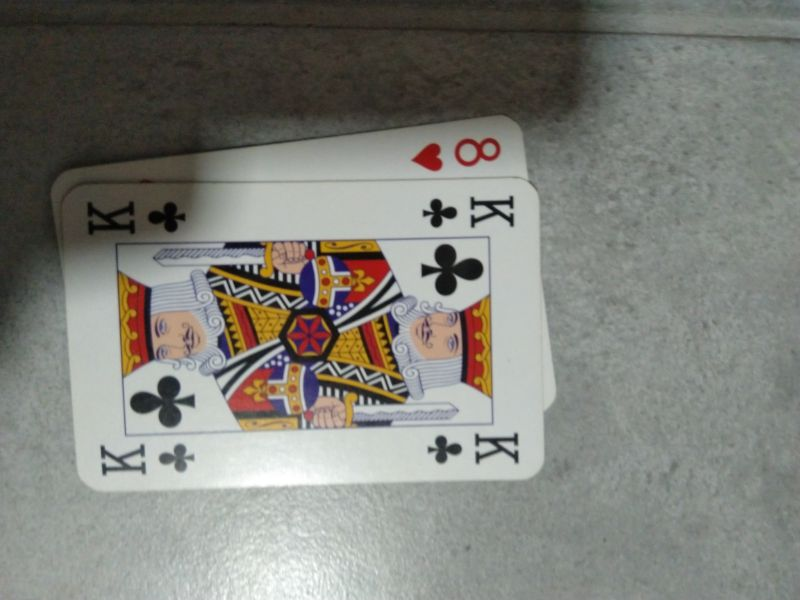8h: (409, 130, 503, 176)
Kc: (82, 193, 193, 239), (419, 187, 523, 234), (422, 426, 526, 470), (97, 438, 203, 480)
